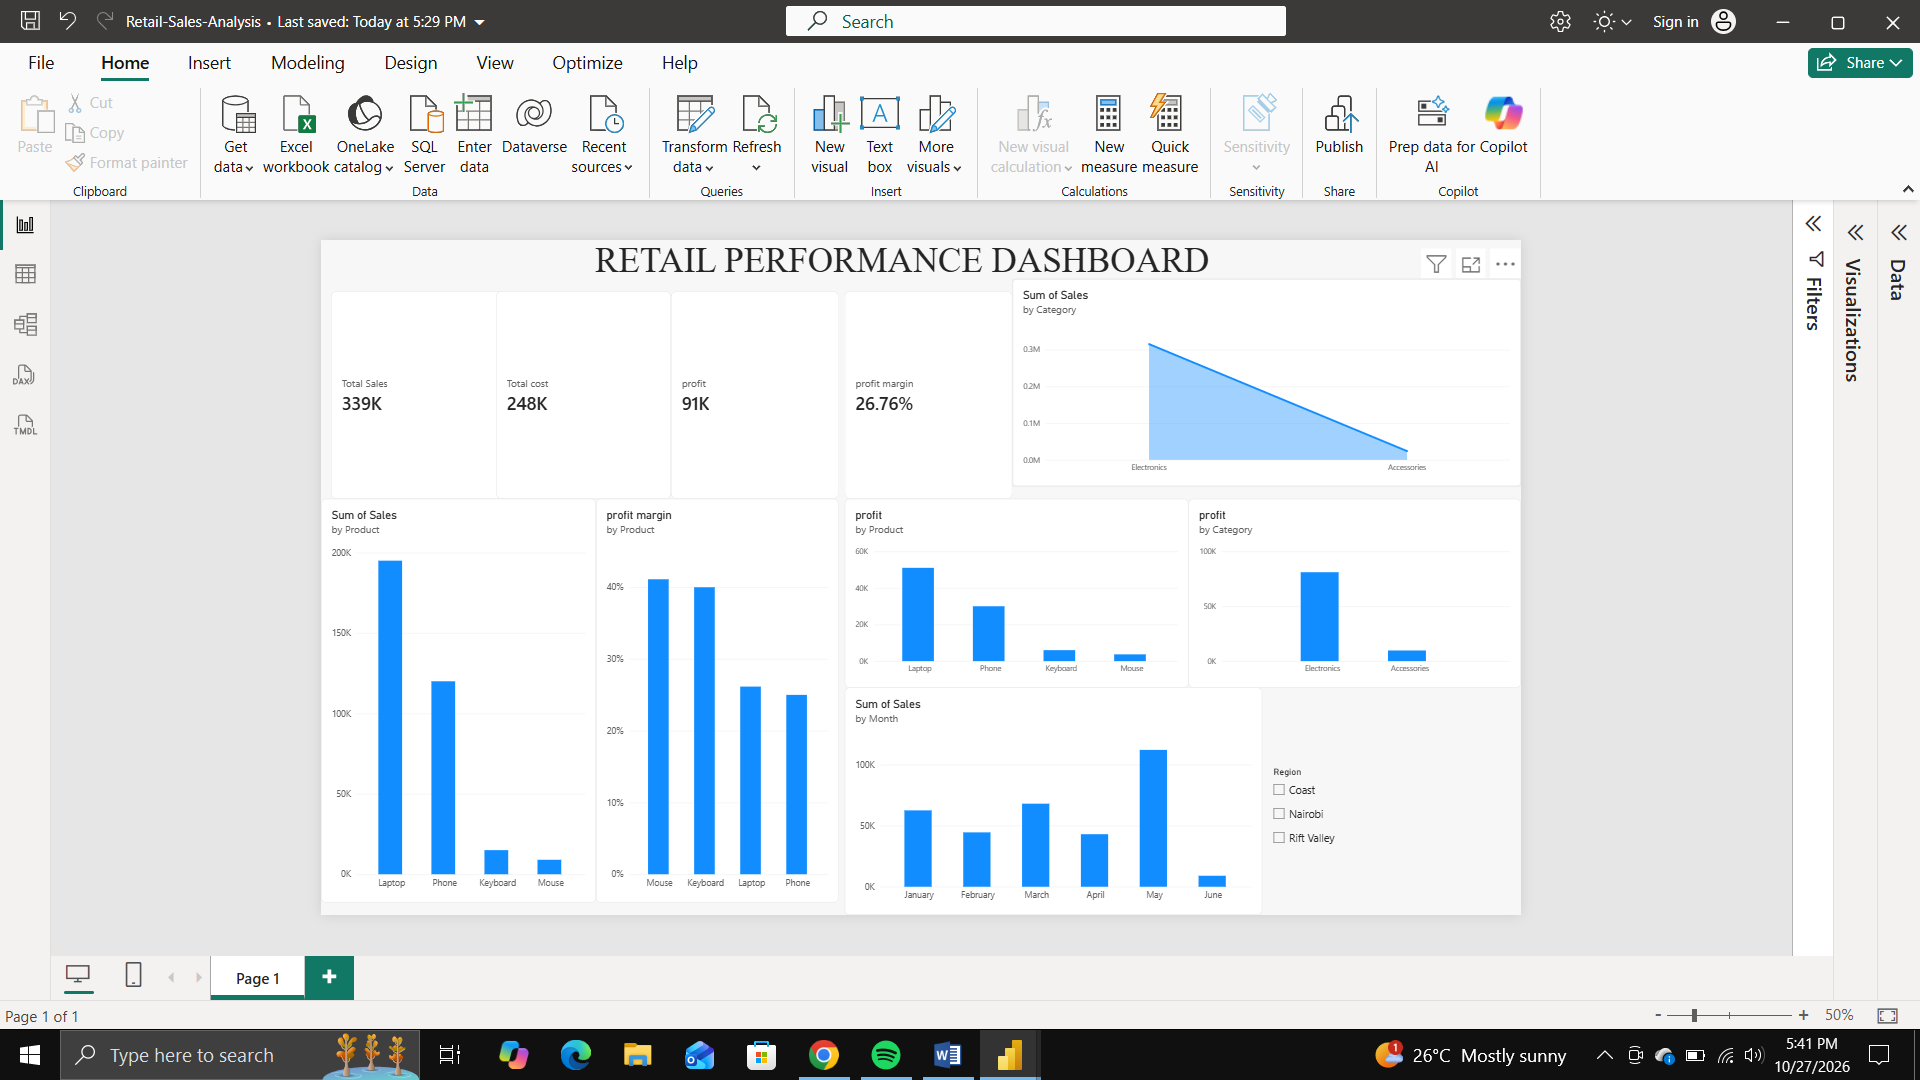

Layout of this report page (visuals, bound fields, positions):
{"tool":"powerbi","page":{"name":"Page 1","canvas":[1920,1080],"ordinal":0},"visuals":[{"type":"cardVisual","fields":{"Data":["Sum(retailsales.Sales)"]},"box":[16,82,280,332],"z":0},{"type":"cardVisual","fields":{"Data":["retailsales.Total cost"]},"box":[280,82,280,332],"z":1},{"type":"clusteredColumnChart","fields":{"Category":["retailsales.Product"],"Y":["Sum(retailsales.Sales)"]},"box":[0,414,440,646],"z":3},{"type":"clusteredColumnChart","fields":{"Category":["retailsales.Date.Variation.Date Hierarchy.Month"],"Y":["Sum(retailsales.Sales)"]},"box":[838,716,668,364],"z":4},{"type":"stackedAreaChart","fields":{"Category":["retailsales.Category"],"Y":["Sum(retailsales.Sales)"]},"box":[1106,82,728,332],"z":5},{"type":"slicer","fields":{"Values":["retailsales.Region"]},"box":[1516,842,404,238],"z":6},{"type":"textbox","box":[16,0,1828,122],"z":7},{"type":"cardVisual","fields":{"Data":["retailsales.profit"]},"box":[560,82,268,332],"z":8},{"type":"cardVisual","fields":{"Data":["retailsales.profit margin"]},"box":[838,82,268,332],"z":9},{"type":"clusteredColumnChart","fields":{"Category":["retailsales.Product"],"Y":["retailsales.profit"]},"box":[838,414,550,302],"z":10},{"type":"clusteredColumnChart","fields":{"Category":["retailsales.Category"],"Y":["retailsales.profit"]},"box":[1388,414,446,302],"z":11},{"type":"clusteredColumnChart","fields":{"Category":["retailsales.Product"],"Y":["retailsales.profit margin"]},"box":[440,414,388,646],"z":12}]}

Visuals, with their boxes on the page's 1920x1080 design canvas (x1, y1, x2, y2). These are canvas units, not pixel positions in the 1920x1080 screenshot, which may show the page scaled, cropped or inside an application window:
cardVisual - Sum(retailsales.Sales): locate(16, 82, 296, 414)
cardVisual - retailsales.Total cost: locate(280, 82, 560, 414)
clusteredColumnChart - retailsales.Product x Sum(retailsales.Sales): locate(0, 414, 440, 1060)
clusteredColumnChart - retailsales.Date.Variation.Date Hierarchy.Month x Sum(retailsales.Sales): locate(838, 716, 1506, 1080)
stackedAreaChart - retailsales.Category x Sum(retailsales.Sales): locate(1106, 82, 1834, 414)
slicer - retailsales.Region: locate(1516, 842, 1920, 1080)
textbox: locate(16, 0, 1844, 122)
cardVisual - retailsales.profit: locate(560, 82, 828, 414)
cardVisual - retailsales.profit margin: locate(838, 82, 1106, 414)
clusteredColumnChart - retailsales.Product x retailsales.profit: locate(838, 414, 1388, 716)
clusteredColumnChart - retailsales.Category x retailsales.profit: locate(1388, 414, 1834, 716)
clusteredColumnChart - retailsales.Product x retailsales.profit margin: locate(440, 414, 828, 1060)
